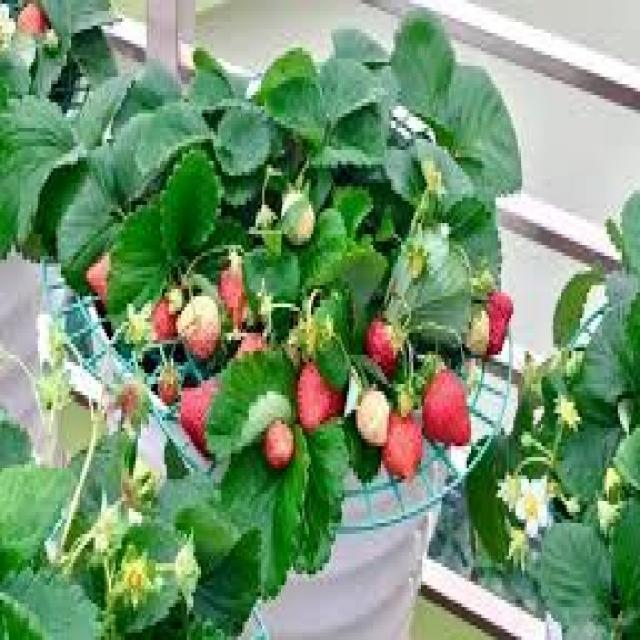Fruta sana: (374, 410, 428, 488), (427, 357, 475, 442), (297, 354, 347, 434), (365, 313, 418, 385), (218, 248, 263, 328), (180, 381, 224, 458), (176, 300, 222, 358), (86, 256, 132, 312), (137, 284, 179, 343), (257, 412, 299, 470), (356, 380, 390, 448), (482, 289, 518, 352)
